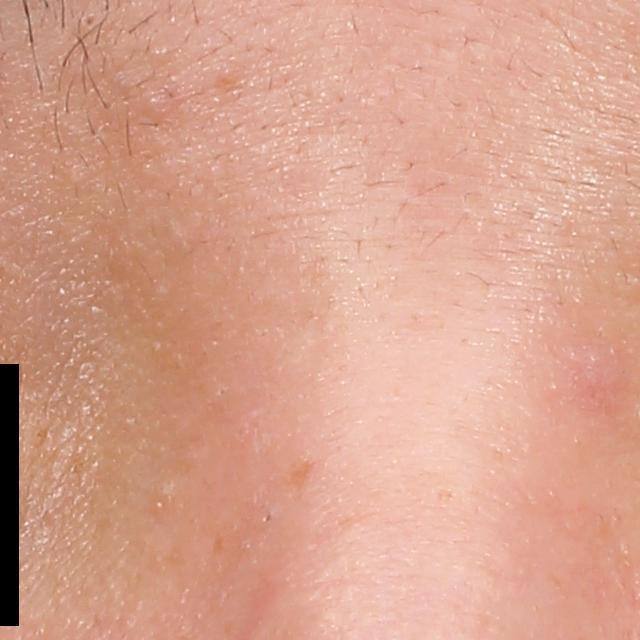comedo: (81, 11, 100, 31)
melasma: (286, 456, 322, 508)
